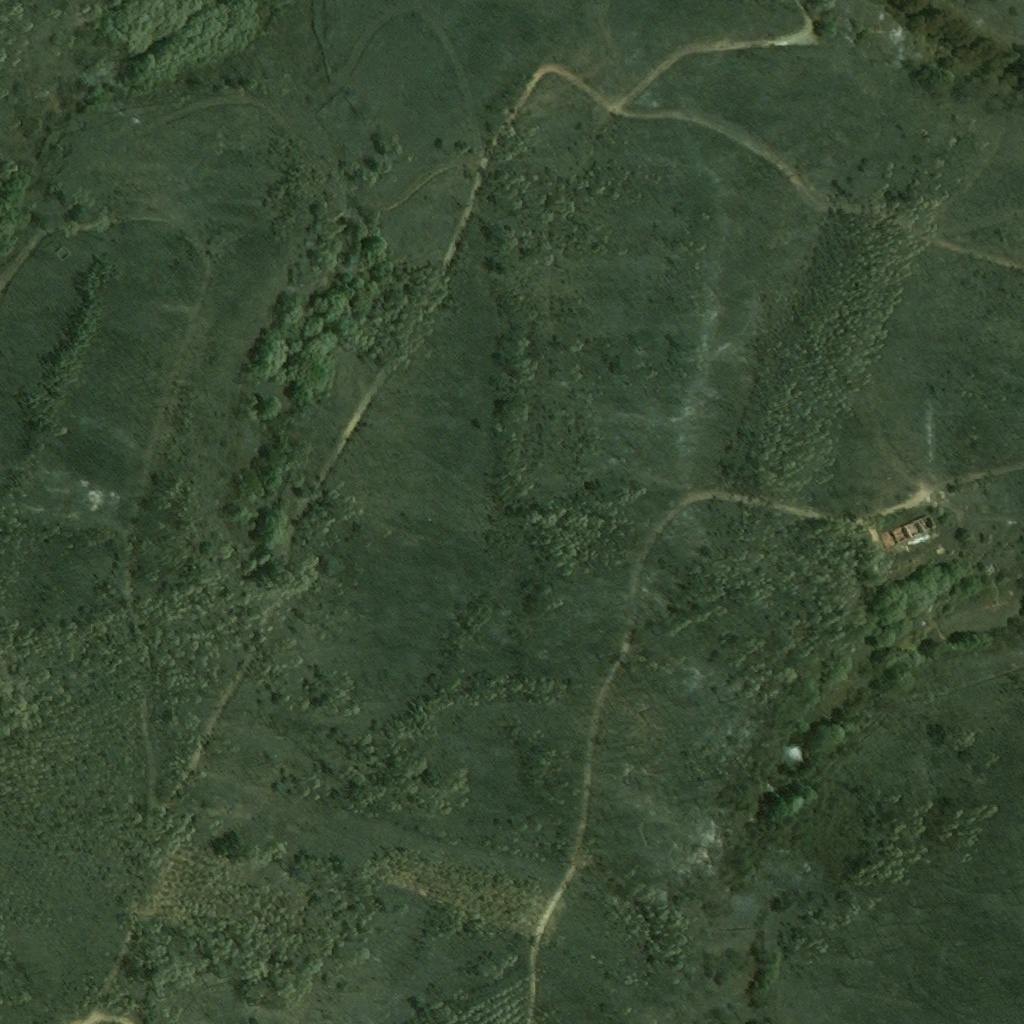2 major-damage: (901, 514, 938, 539), (882, 525, 908, 548)
